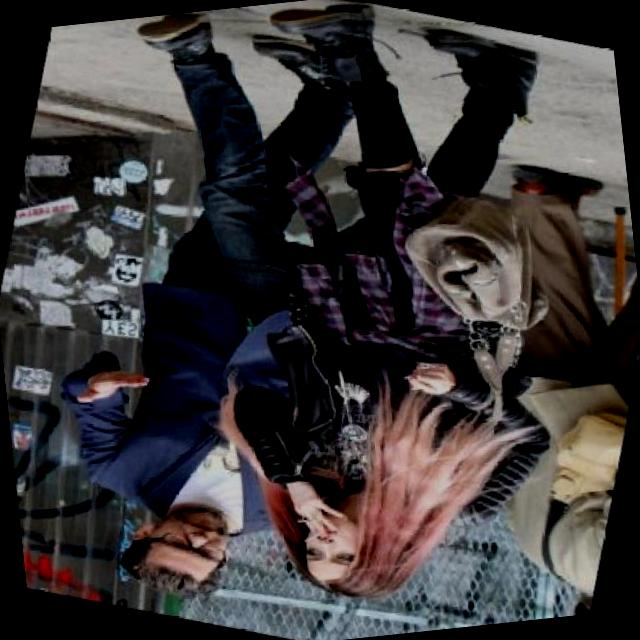smoke: (286, 478, 347, 552)
